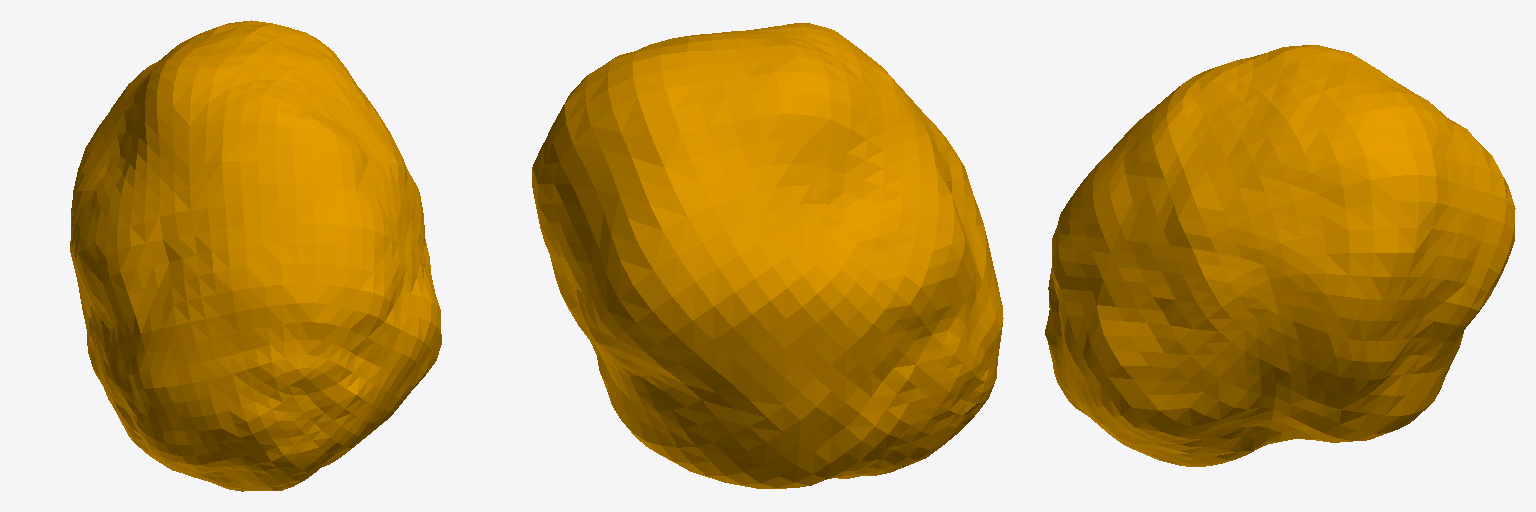
The robot description file, URDF, robot "rock":
<?xml version="1.0" ?>
<robot name="rock">
  <link name="rock">
    <inertial>
      <mass value="0.314"/>
      <origin rpy="0 0 0" xyz="0 0 0"/>
      <inertia ixx="0.000314" ixy="0" ixz="0" iyy="0.000314" iyz="0" izz="0.000314"/>
    </inertial>
    <collision name="rock_collision">
      <origin rpy="0 0 0" xyz="0 0 0"/>
      <geometry>
        <mesh filename="package://rocks/visual/111.dae" scale="1 1 1"/>
      </geometry>
    </collision>
    <visual name="rock_visual">
      <origin rpy="0 0 0" xyz="0 0 0"/>
      <geometry>
        <mesh filename="package://rocks/visual/111.dae" scale="1 1 1"/>
      </geometry>
    </visual>
  </link>
</robot>

--- What the picture shows (computed from the rendered views, not written in the file) ---
The picture shows the robot from 3 angles, left to right: view 1: azimuth 30°, elevation 25°; view 2: azimuth 150°, elevation 25°; view 3: azimuth 270°, elevation 25°; orthographic projection.
Robot: rock — 1 links, 0 joints (none); root link rock; default pose: all joints at 0.
Links seen in each view (by area): view 1: rock; view 2: rock; view 3: rock.
Link boxes in pixels (x1,y1,x2,y2): rock: (70, 20, 441, 491); rock: (532, 23, 1003, 488); rock: (1045, 45, 1515, 466).
Size in the robot's own frame: 0.0562 by 0.0691 by 0.0655 metres.
Meshes: 1 distinct files referenced, 1 mesh visuals loaded (1 Collada DAE).